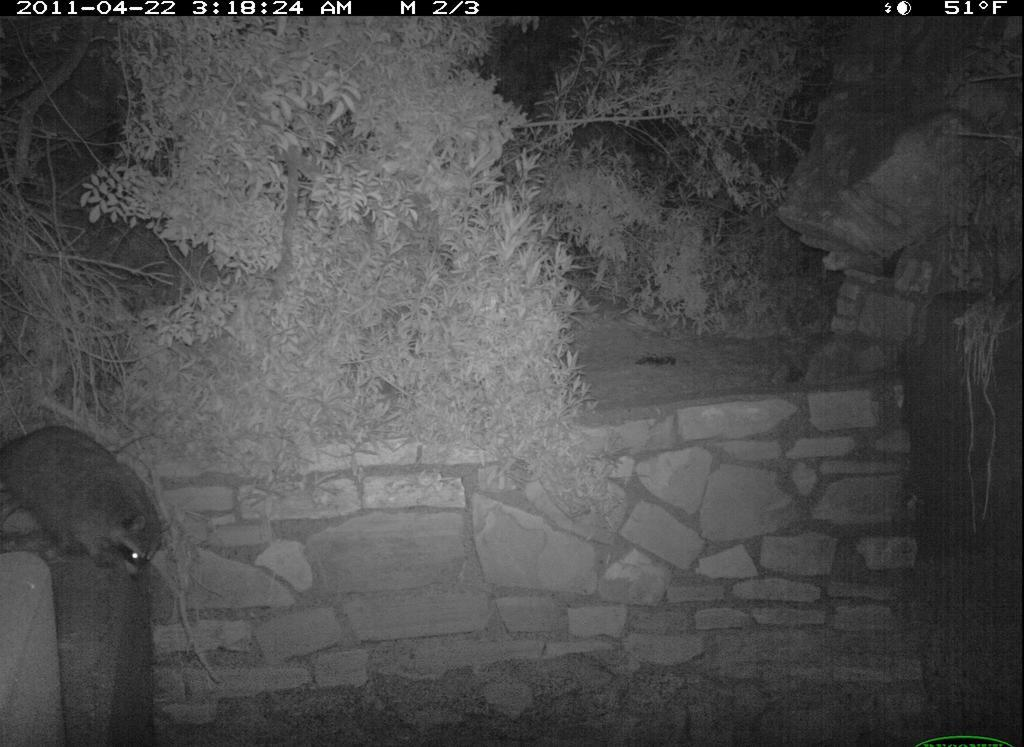raccoon: (3, 415, 209, 577)
